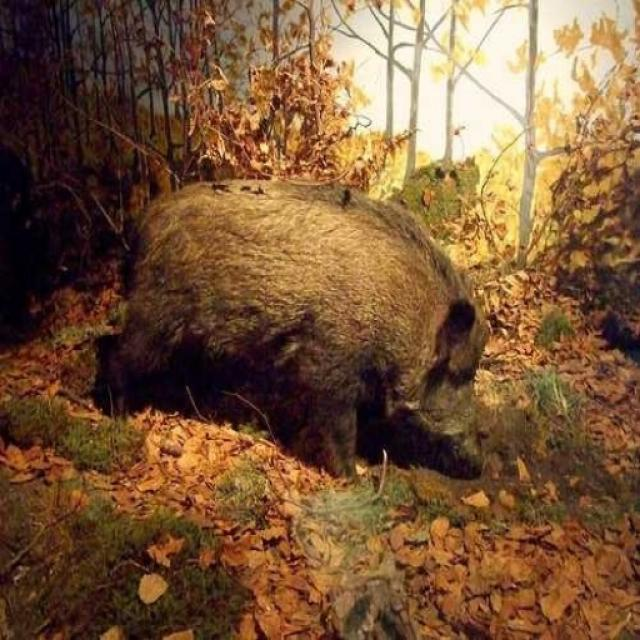pig: (74, 93, 507, 521)
